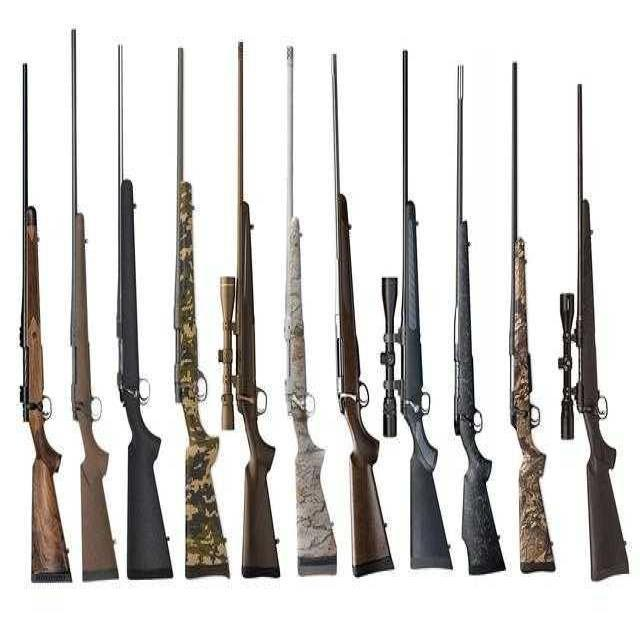weapon: (158, 31, 243, 601), (550, 57, 640, 592), (311, 32, 396, 590), (377, 19, 460, 578), (261, 26, 341, 594), (56, 18, 125, 592), (494, 43, 565, 592), (106, 30, 174, 583), (220, 21, 286, 589), (445, 43, 512, 592), (11, 48, 76, 612)
